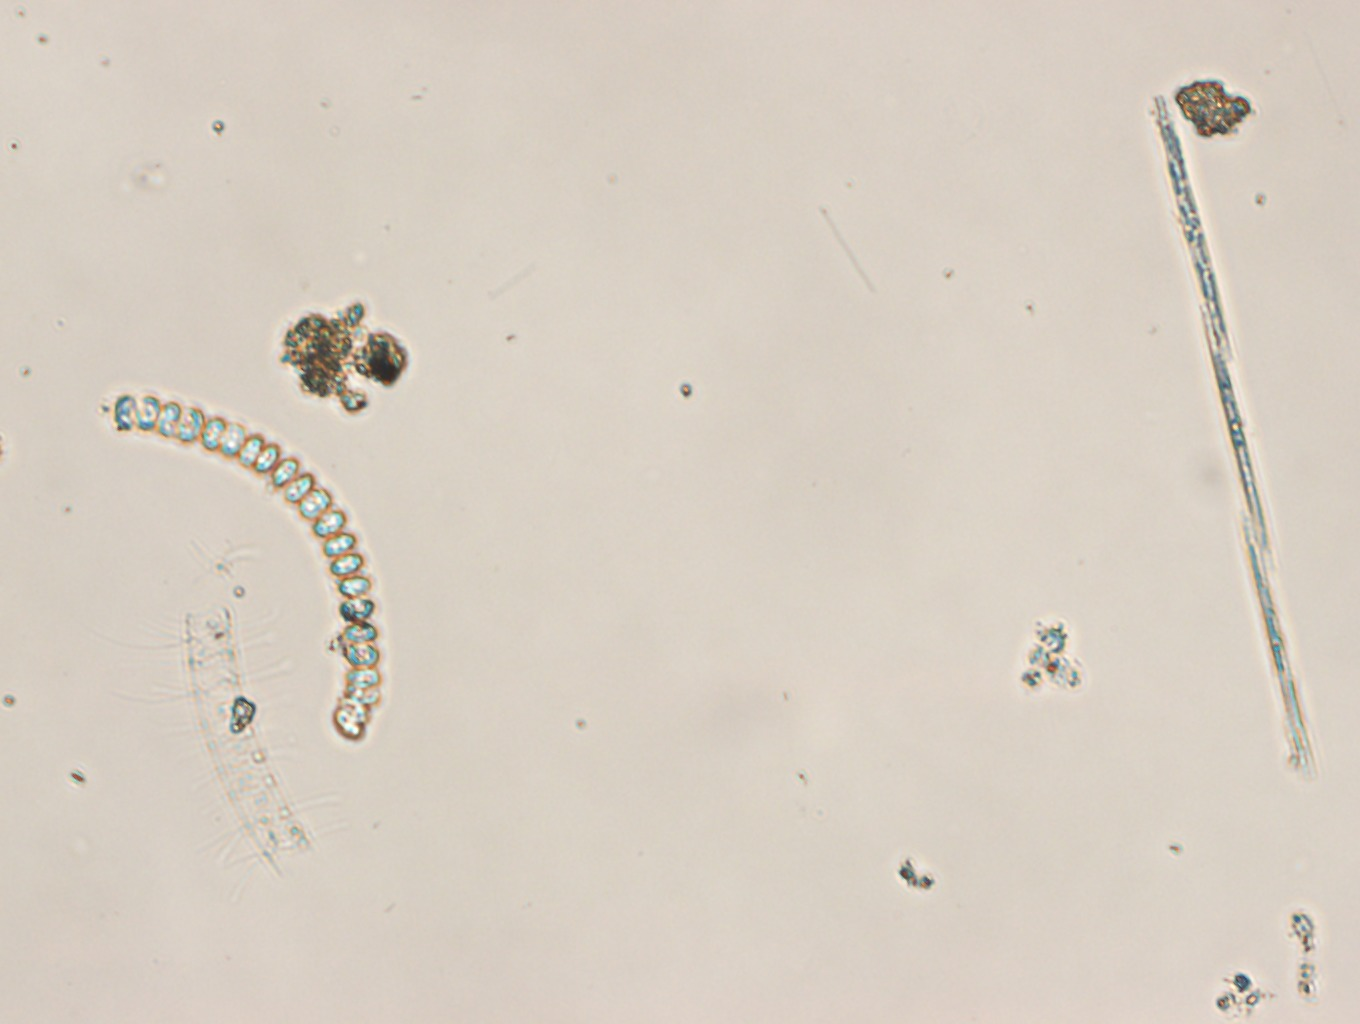chaetoceros: (126, 598, 335, 886)
skeletonema: (112, 392, 384, 745)
